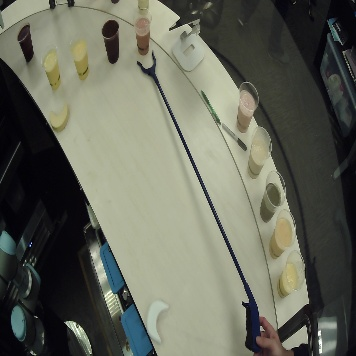full_cup: (274, 251, 309, 301), (264, 208, 299, 258), (252, 169, 287, 219), (242, 126, 275, 179), (229, 78, 262, 131), (130, 5, 153, 57), (99, 15, 122, 67), (69, 30, 92, 82), (41, 40, 64, 92), (17, 21, 37, 68)
puck: (144, 295, 172, 341), (47, 101, 72, 138)
